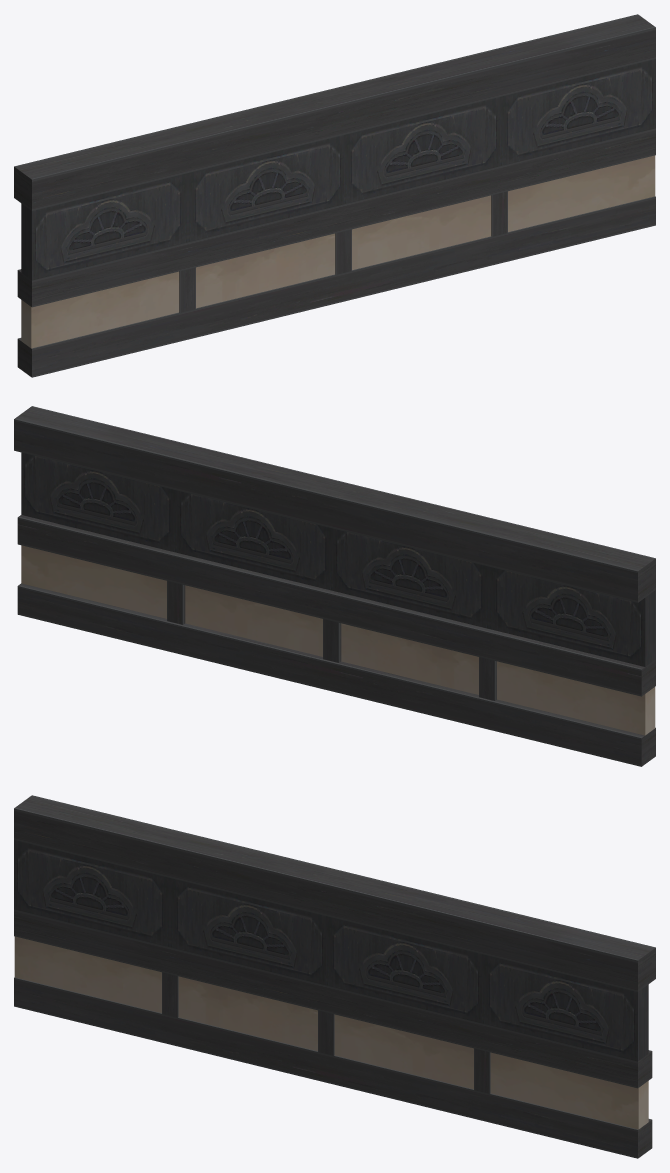
Rendered from Homeworld_Interior_Dq_Room_Wall_04_Vo.fbx.
3 renders of one model, top to bottom at view 1: azimuth 30°, elevation 25°; view 2: azimuth 150°, elevation 25°; view 3: azimuth 330°, elevation 25°, orthographic.
Visible parts, largest first — view 1: Homeworld_Interior_Dq_Room_Wall_04_Vo; view 2: Homeworld_Interior_Dq_Room_Wall_04_Vo; view 3: Homeworld_Interior_Dq_Room_Wall_04_Vo.
Boxes of the visible parts, x1,y1,x2,y2 form: Homeworld_Interior_Dq_Room_Wall_04_Vo: [14, 14, 655, 377]; Homeworld_Interior_Dq_Room_Wall_04_Vo: [14, 406, 655, 766]; Homeworld_Interior_Dq_Room_Wall_04_Vo: [14, 795, 655, 1158].
Bounding box in the file's own units: 5 × 1.52 × 0.25.
